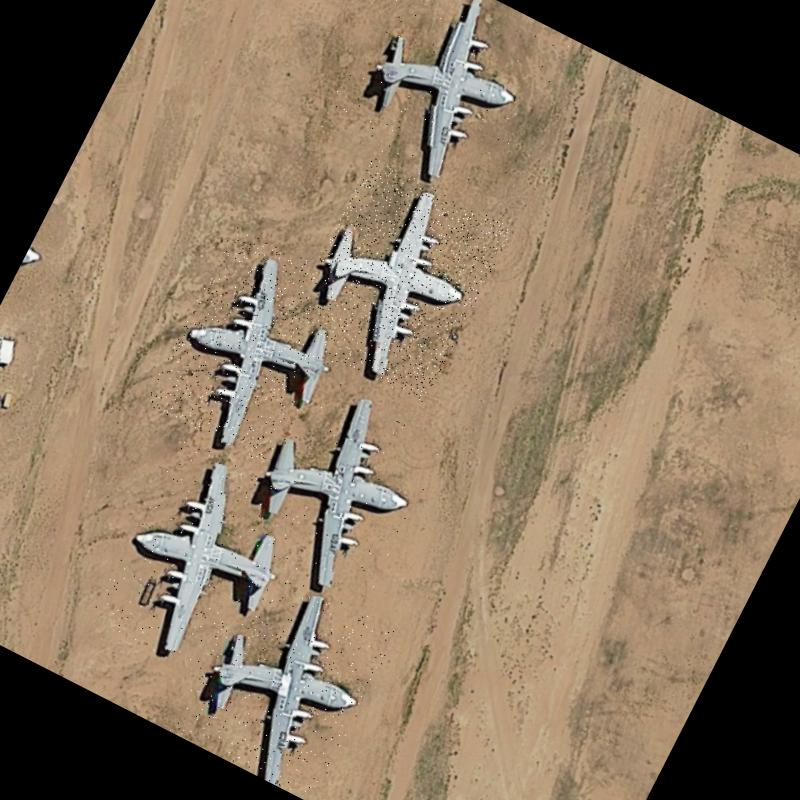A2: (282, 156, 512, 404), (144, 224, 373, 473), (89, 437, 314, 687), (168, 558, 399, 800), (224, 364, 452, 609), (317, 0, 571, 213)
